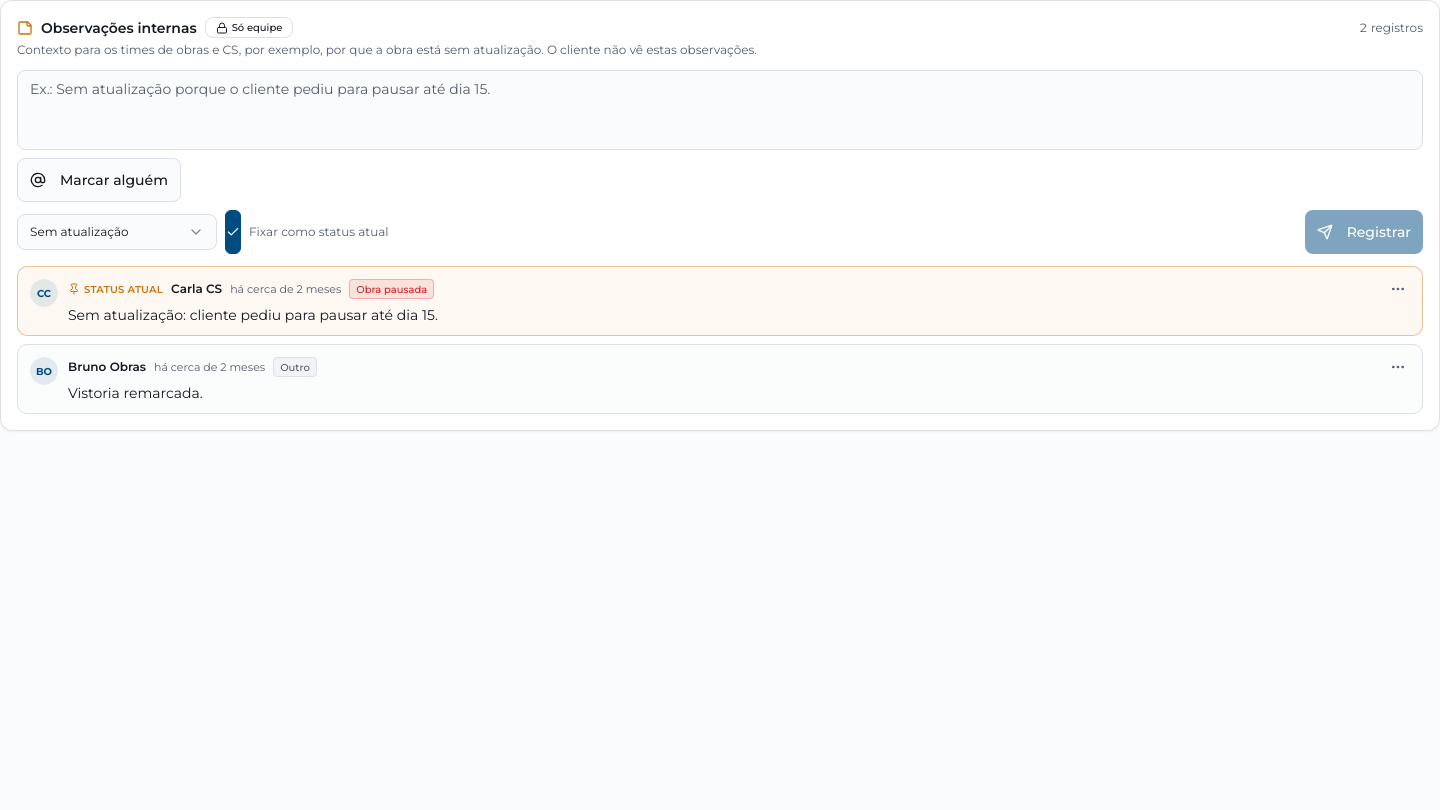
Test: InternalNotesCard › menções › marca alguém da equipe pela lista e avisa depois de registrar
Later steps or results of the test are not shown.
Click the button "Marcar alguém": (99, 180) [17,158,181,202]
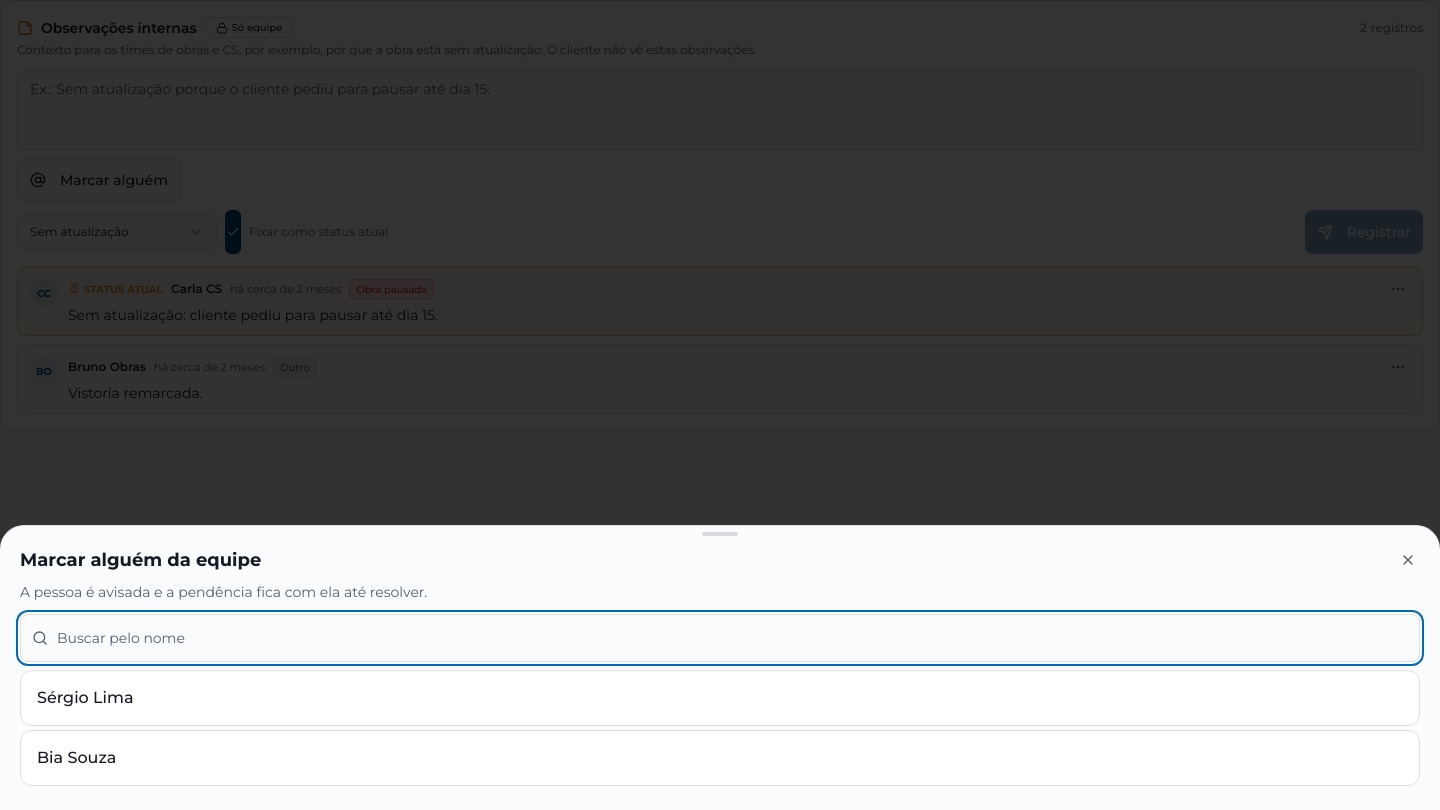
In the search field named "Buscar pessoa da equipe": (720, 638) [20,614,1420,662], type "sergio"
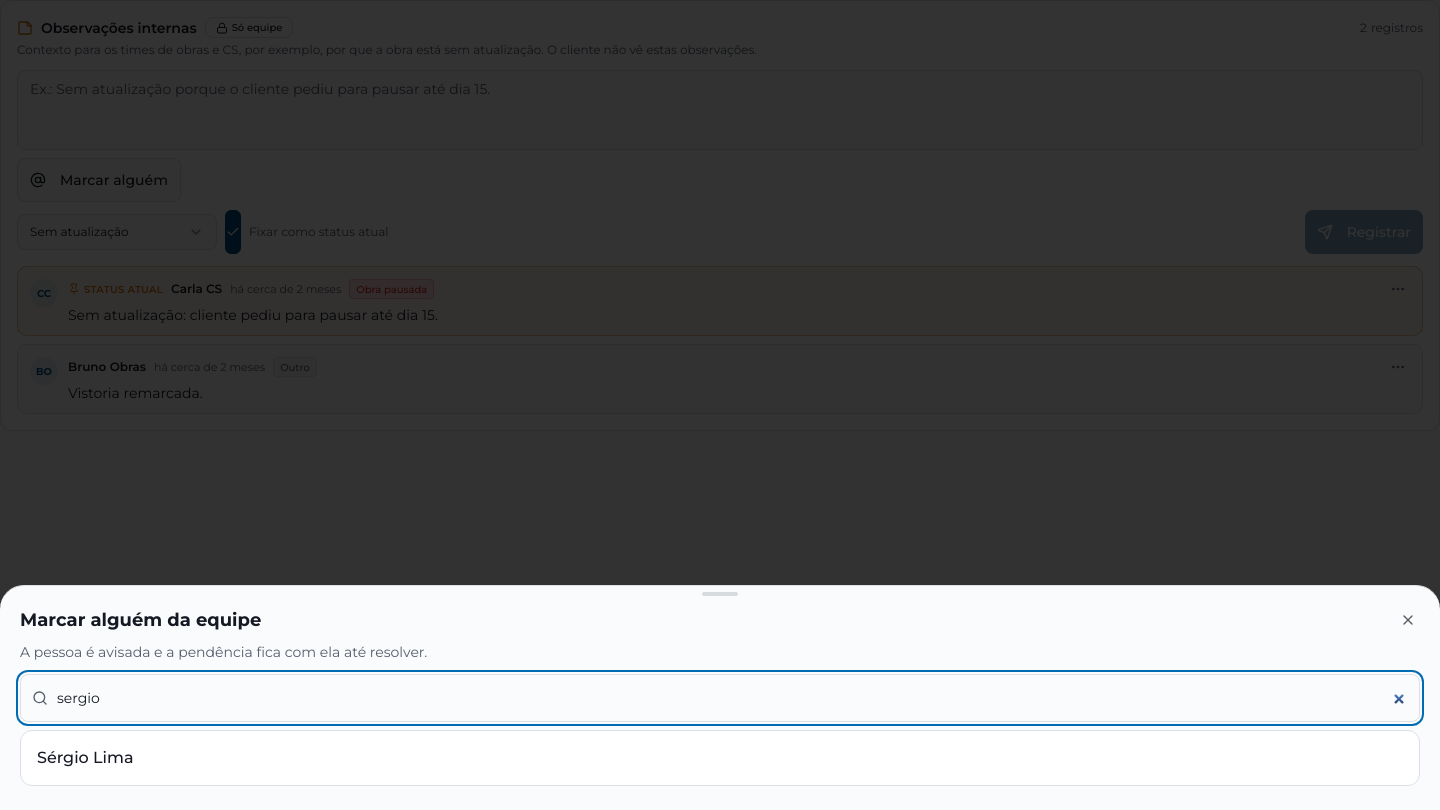
Result: the button "Bia Souza" is gone
Click the button "Sérgio Lima": (85, 758) [20,730,1420,786]
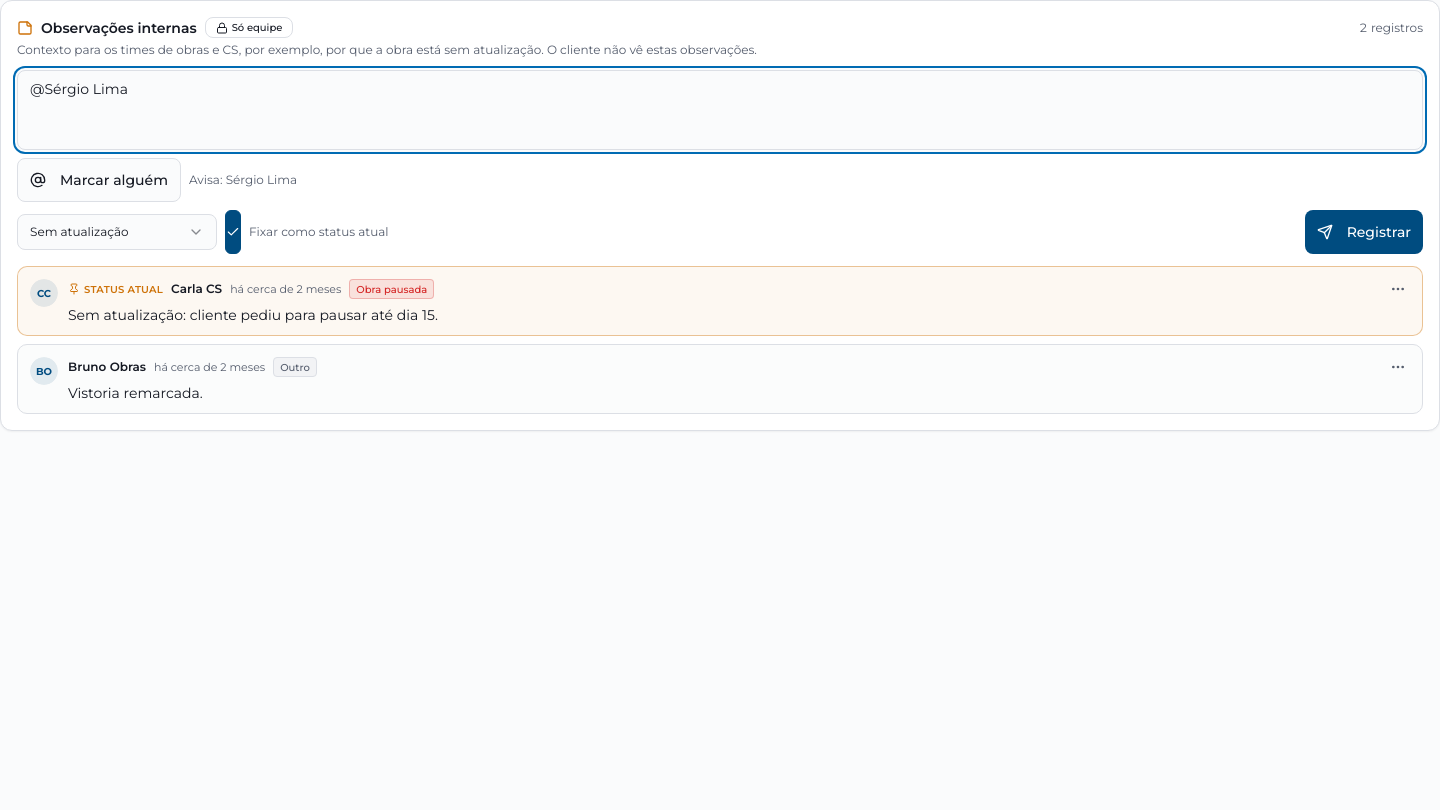
Result: the text box named "Nova observação interna" holds "@Sérgio Lima " at [17,70,1423,150]
Result: the text "Avisa: Sérgio Lima" is shown at [189,172,297,188]
